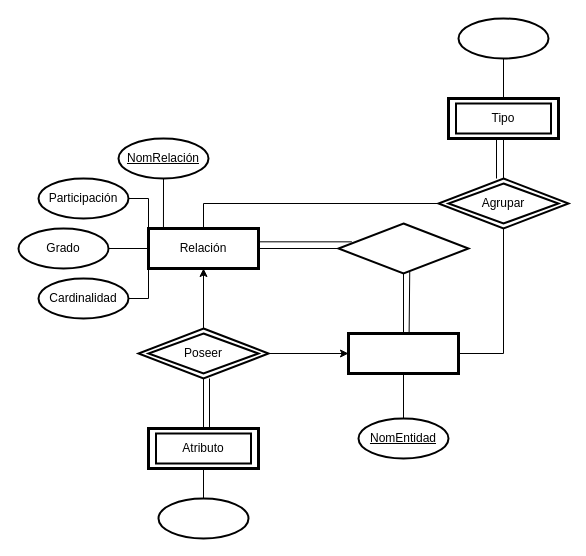
This 586x556 diagram has some shape labels left out. Each missing label, with the centre of its shape:
"Entidad" goes at point (403, 353).
"NomAtributo" goes at point (203, 518).
"NomTipo" goes at point (503, 38).
"Relacionar" goes at point (403, 248).
